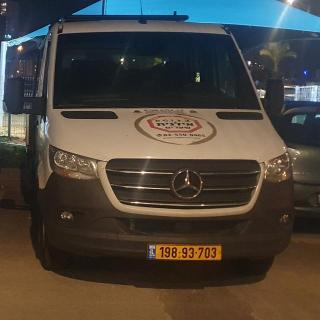LicensePlate: (156, 245, 220, 259)
